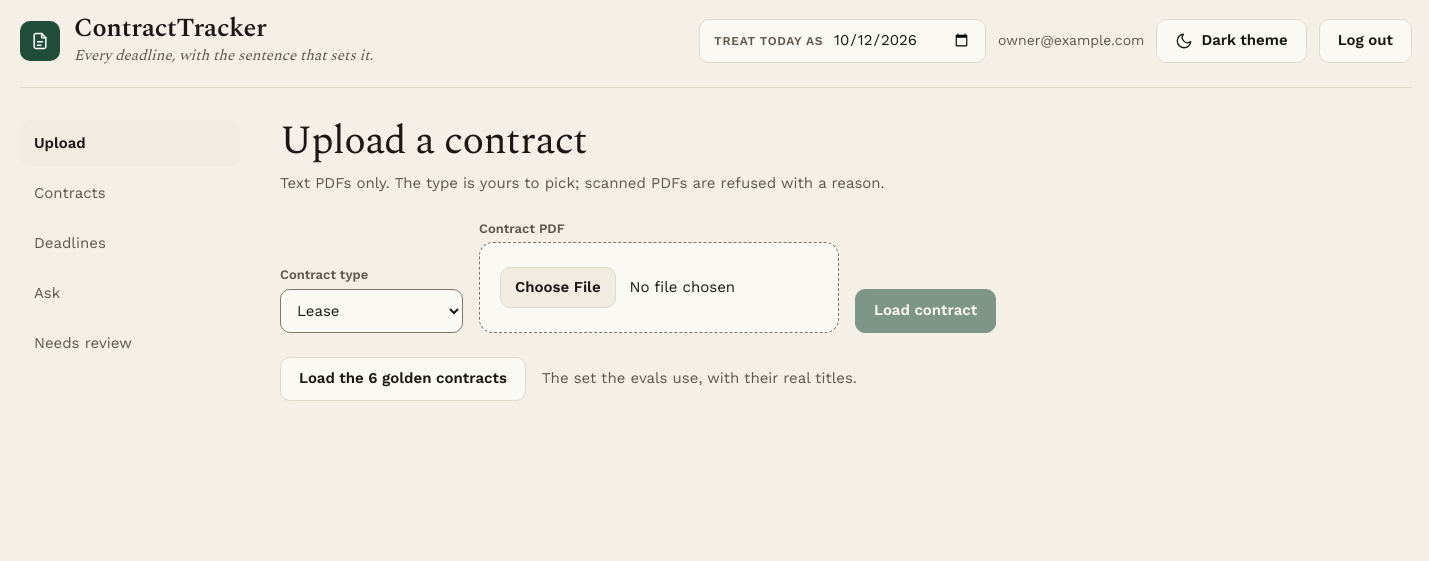
Scenario: the page › TC-0122: an answer shows each citation with its clause text
Expected: the tab "Upload" is shown, [20,120,240,166]
Step 1. Click the tab "Ask" → (130, 293), box [20,270,240,316]
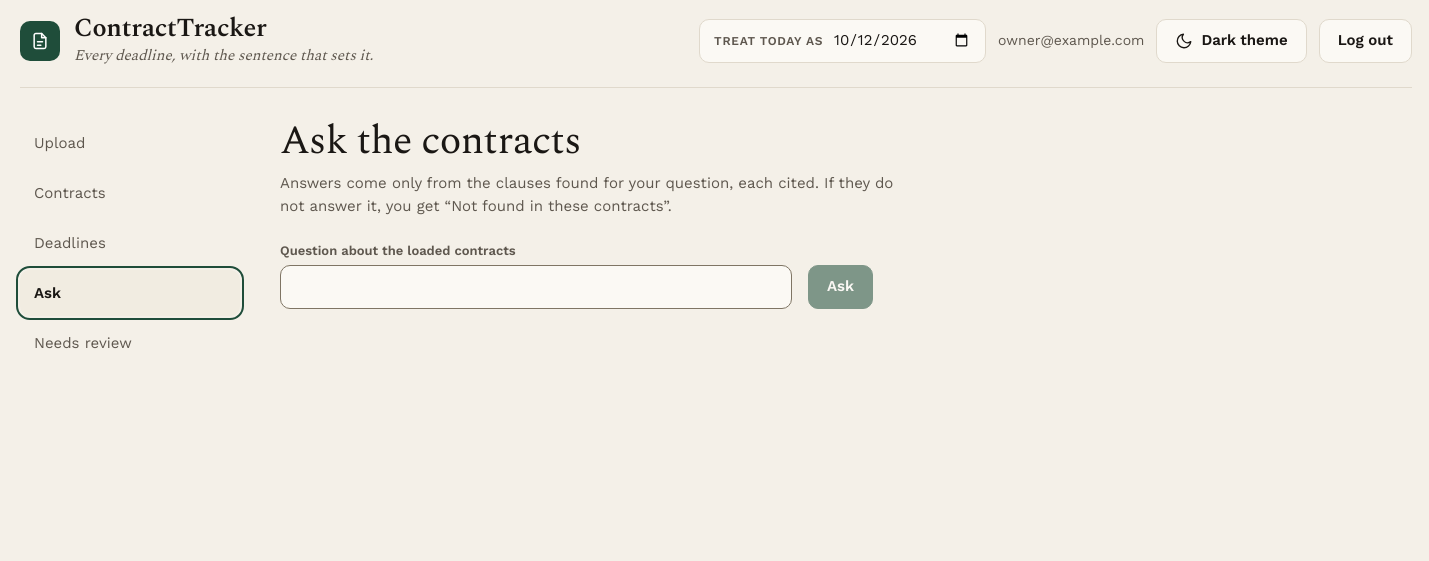
Step 2. Type "What notice does lease 01 need?" into the field labelled "Question about the loaded contracts" → (536, 287), box [280,265,792,309]
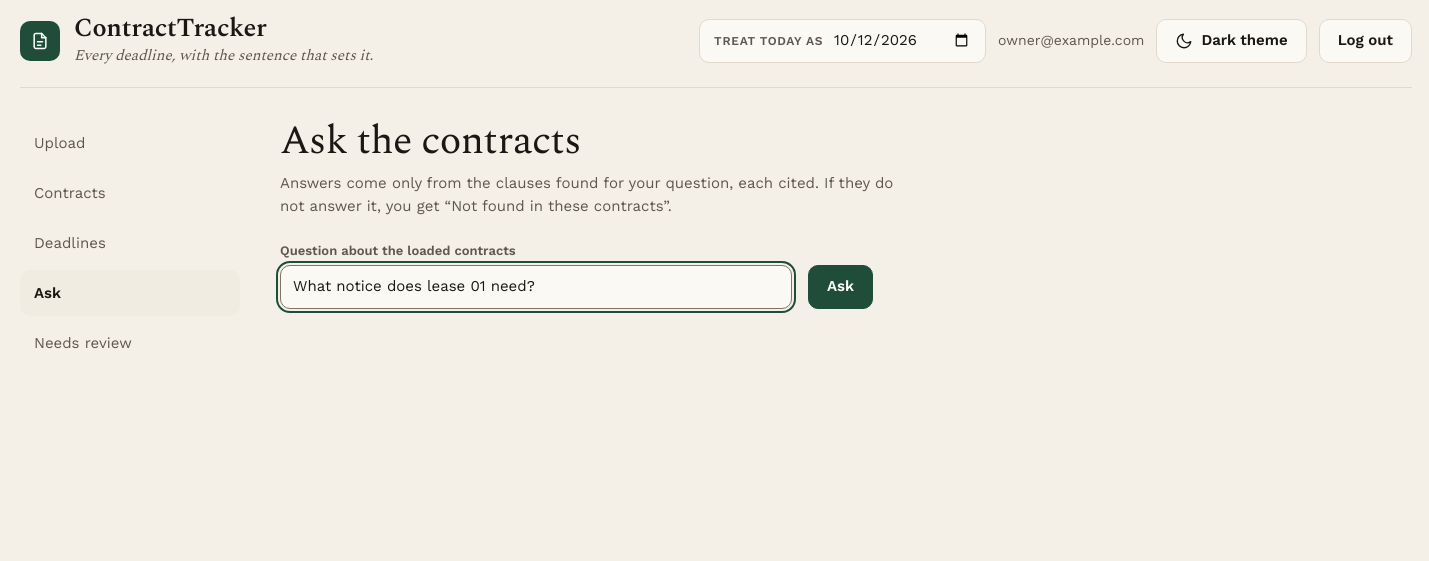
Step 3. Click the button "Ask" → (840, 287), box [808,265,873,309]
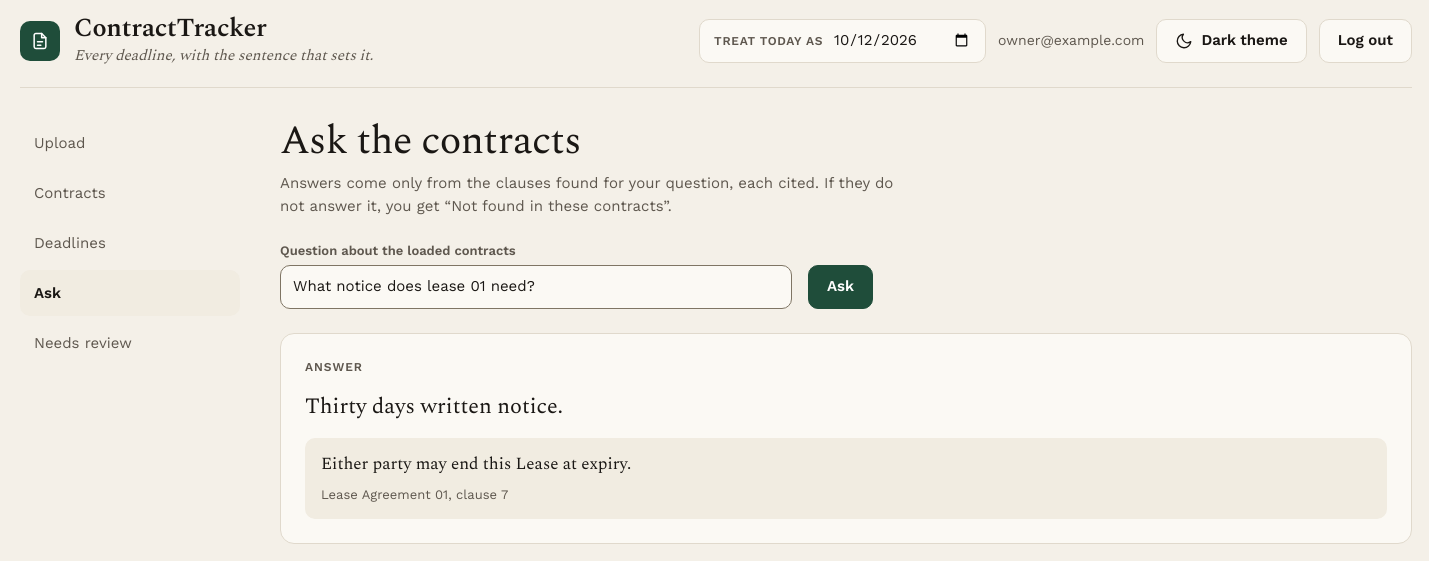
Expected: the text "Thirty days written notice." is shown, [305,390,563,423]
Expected: the text "Lease Agreement 01, clause 7" is shown, [321,487,508,502]
Expected: the text "Either party may end this Lease at expiry." is shown, [321,451,631,477]
